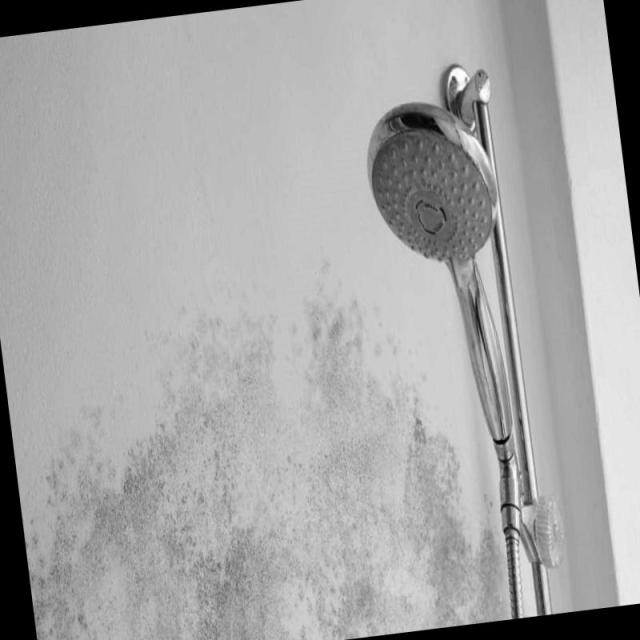stain marks: (9, 265, 536, 640)
